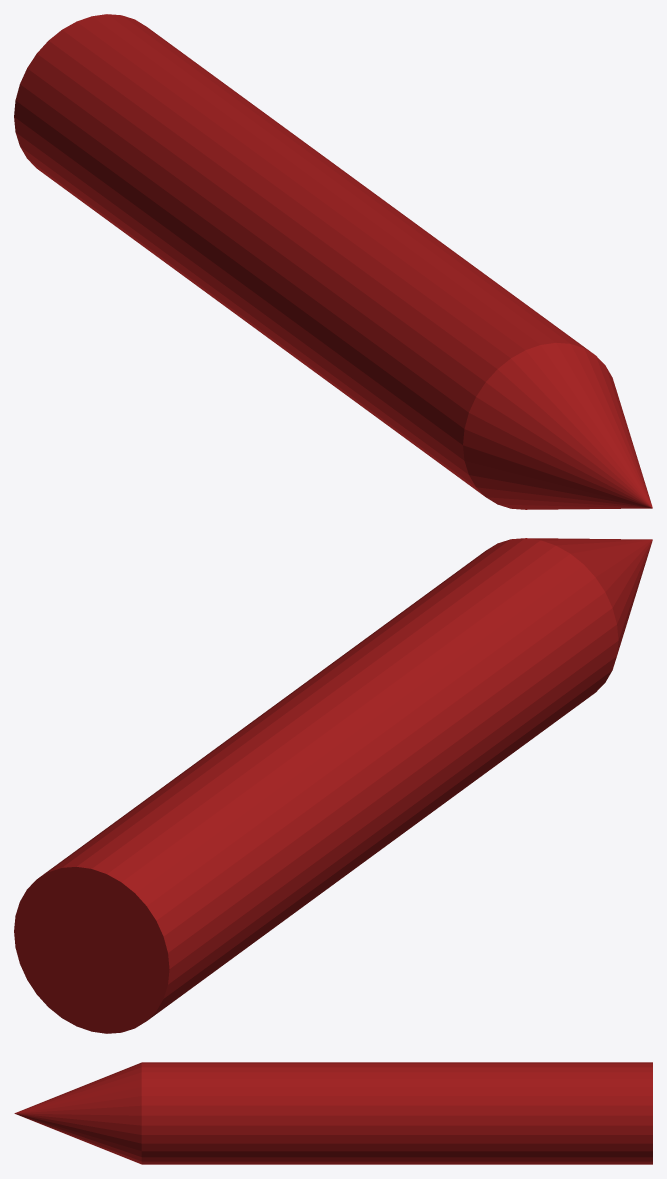
File: Missile.gltf
3 views of the same model, one above another, from view 1: azimuth 30°, elevation 25°; view 2: azimuth 150°, elevation 25°; view 3: azimuth 270°, elevation 25° (orthographic). The views are drawn at different scales.
Parts seen in each view (by area): view 1: 円錐; view 2: 円錐; view 3: 円錐.
Boxes of the visible parts, x1=… form: 円錐: x1=14, y1=14, x2=652, y2=509; 円錐: x1=14, y1=538, x2=652, y2=1033; 円錐: x1=14, y1=1062, x2=652, y2=1164.
Bounding box in the file's own units: 0.32 × 0.32 × 2.
1 material, 1 textured.
